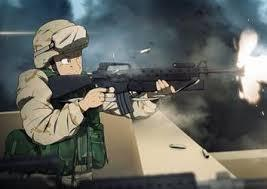rifle: (46, 63, 245, 115)
